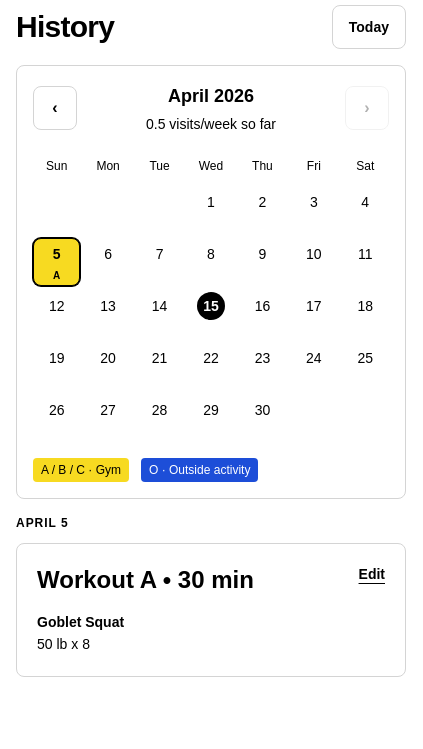
Test case: HistoryPage › edits a past exercise using the same set controls and saves immediately
The image size is (423, 749).
Check: the button "Remove workout" is not shown
Click the button "Edit" at (372, 574), box [358,564,385,584]
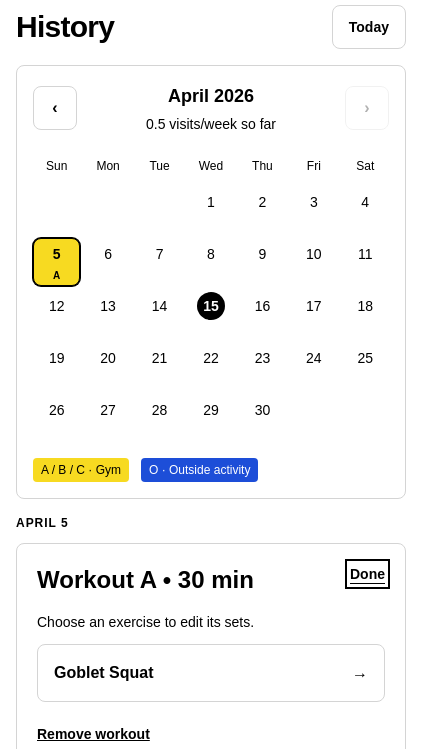
Click the button "Goblet Squat →" at (104, 672), box [37,644,385,702]
(page scrolled)
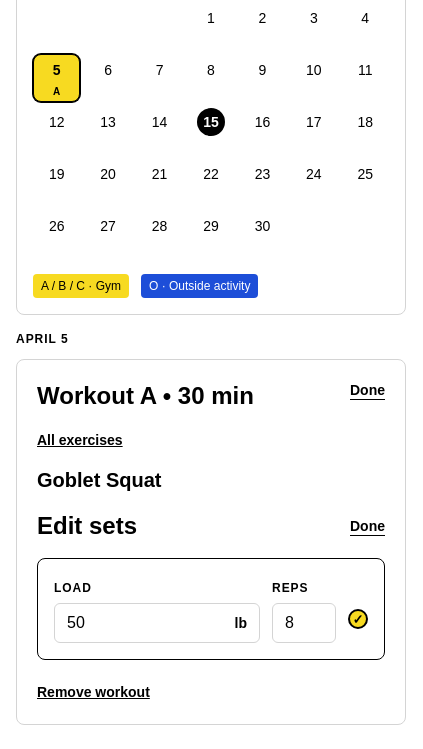
Check: the heading "Edit sets" is shown, box [37,510,137,542]
Click the button named "Set 1 completed" at (358, 619), box [348,609,368,629]
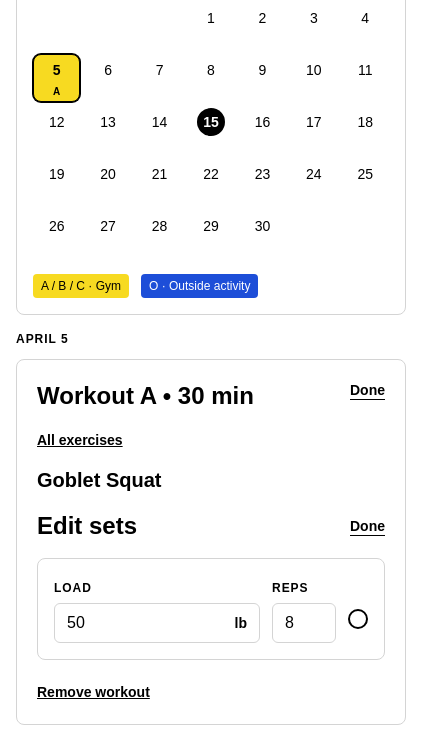
Replace the text in the field named "Set 1 Reps" with "6" at (304, 623), box [272,603,336,643]
Click the button named "Set 1 completed" at (358, 619), box [348,609,368,629]
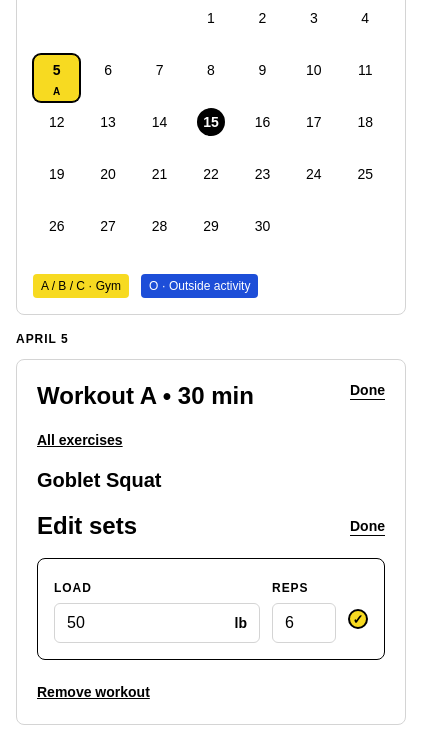
Click the button "Done" in the row of "Edit sets" at (368, 526), box [350,516,385,536]
(page scrolled)
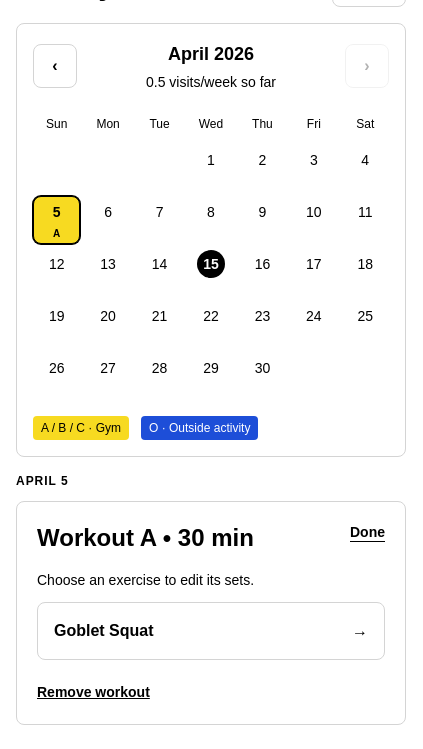
Check: the button "Goblet Squat →" is shown, box [37,602,385,660]
Click the button "Done" at (368, 532), box [350,522,385,542]
(page scrolled)
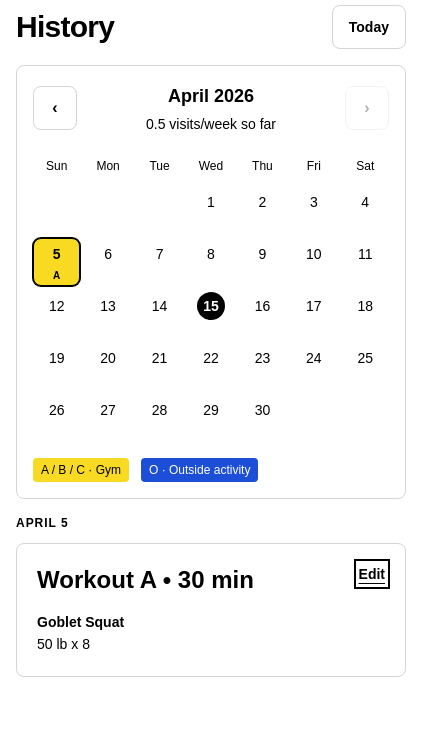
Check: the button "Remove workout" is gone
